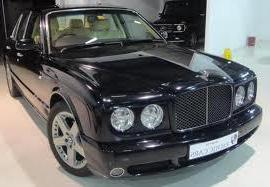Car: (2, 1, 270, 187)
